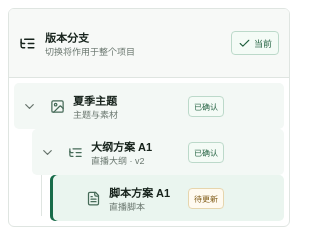
Test: GuidedVersionTree › renders a recursive active path, selects globally, and collapses child branches
The image size is (320, 244).
expect the text "待更新" is shown: met, box [188,188,224,208]
expect the text "直播大纲 · v2" is shown: met, box [91,156,144,166]
Click the button with aria-label "切换到 大纲方案 A1" at (144, 152), box [60,133,228,171]
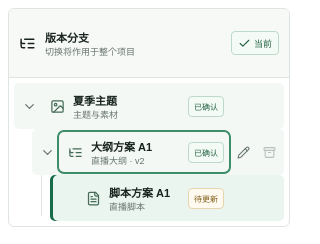
Click the button named "收起 夏季主题" at (29, 106), box [16,93,42,119]
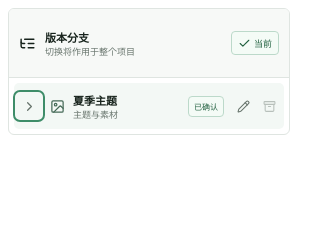
Click the button named "展开 夏季主题" at (29, 106), box [16,93,42,119]
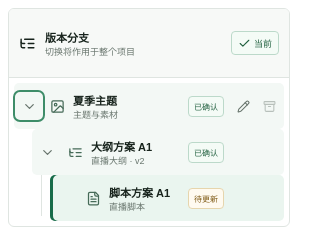
expect the button with aria-label "切换到 大纲方案 A1" is shown: met, box [60,133,228,171]
